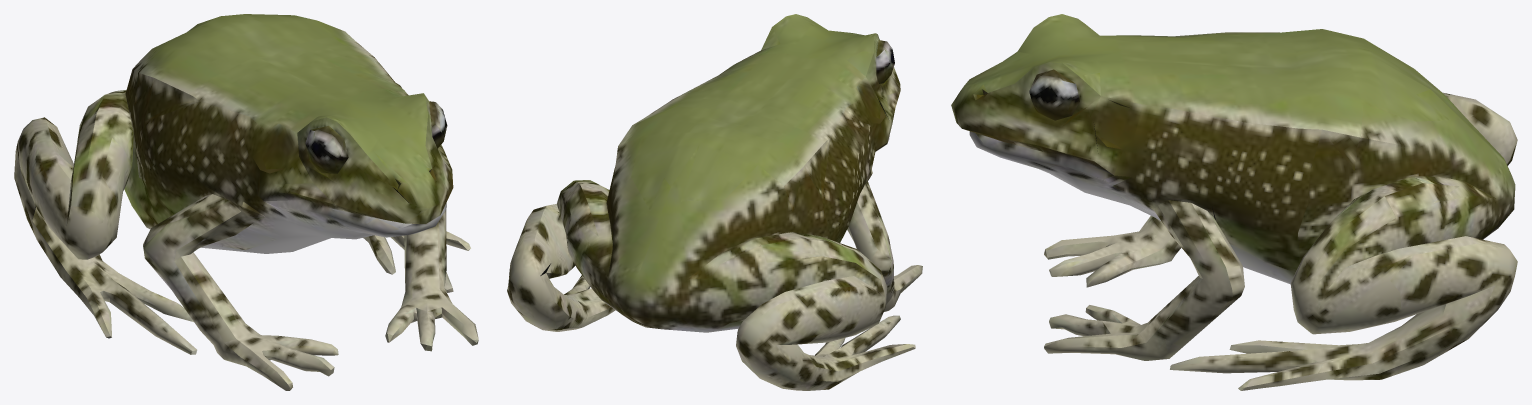
Rendered from frog.glb.
3 renders of one model, left to right at view 1: azimuth 30°, elevation 25°; view 2: azimuth 150°, elevation 25°; view 3: azimuth 270°, elevation 25°, orthographic. The views are drawn at different scales.
Visible parts, largest first — view 1: frog; view 2: frog; view 3: frog.
Part boxes in pixels (x1=…): frog: x1=14, y1=14, x2=478, y2=390; frog: x1=507, y1=14, x2=922, y2=390; frog: x1=951, y1=14, x2=1517, y2=390.
Size of the model in its own units: 0.0784 by 0.0525 by 0.1001.
Materials: 1 (1 with a texture image).
